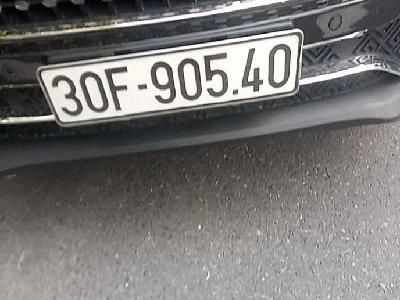car: (38, 29, 304, 129)
